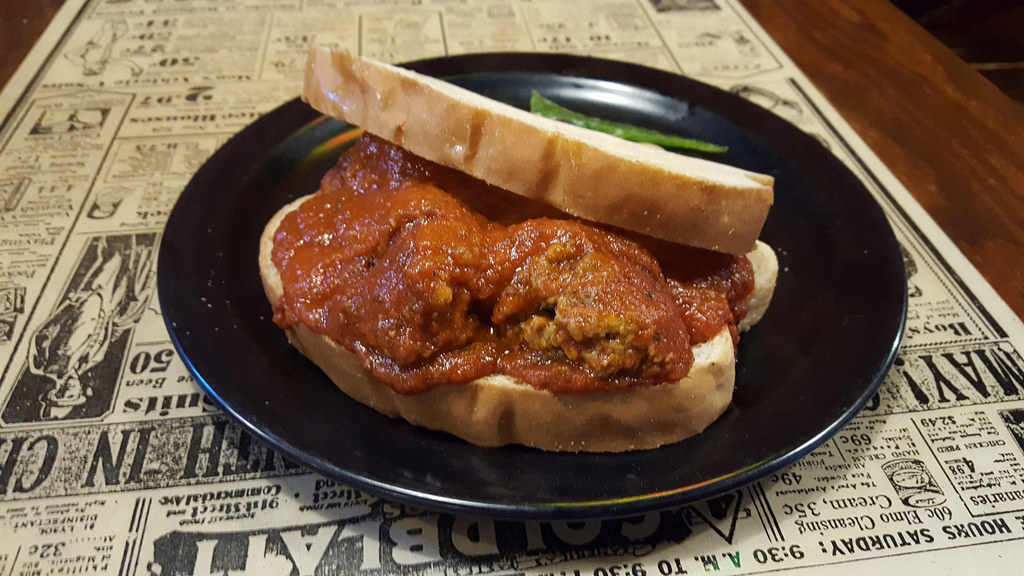meatballs: (234, 254, 717, 385)
slice of bread: (299, 34, 778, 249), (268, 339, 752, 459)
